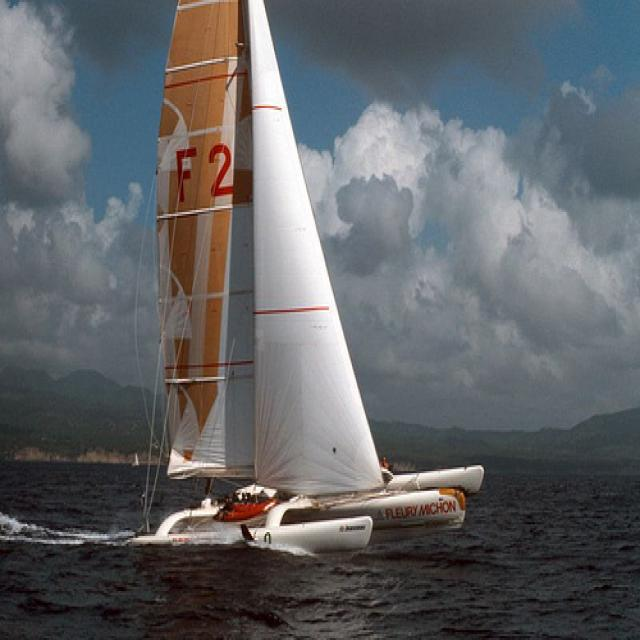Ship: (136, 1, 483, 553)
